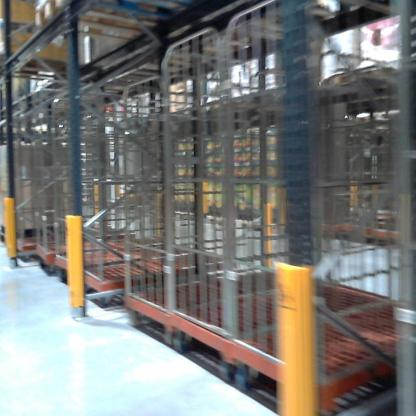pallet: (37, 1, 201, 43), (325, 64, 409, 99), (4, 50, 82, 83)
